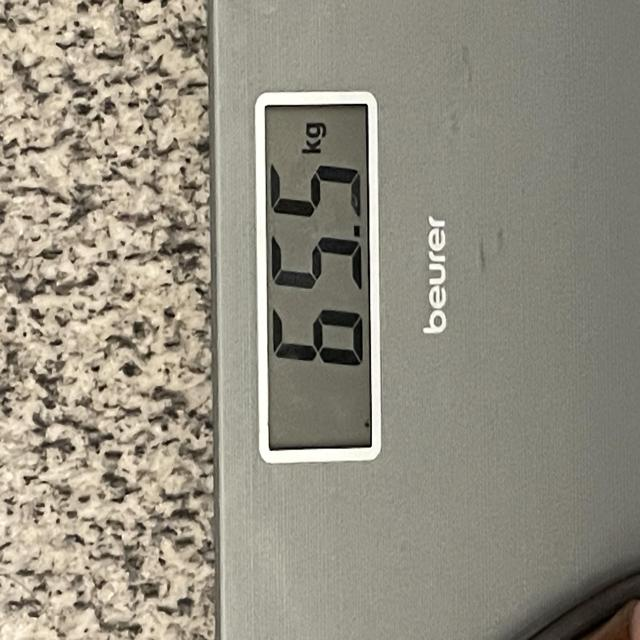ws: (207, 0, 640, 640)
